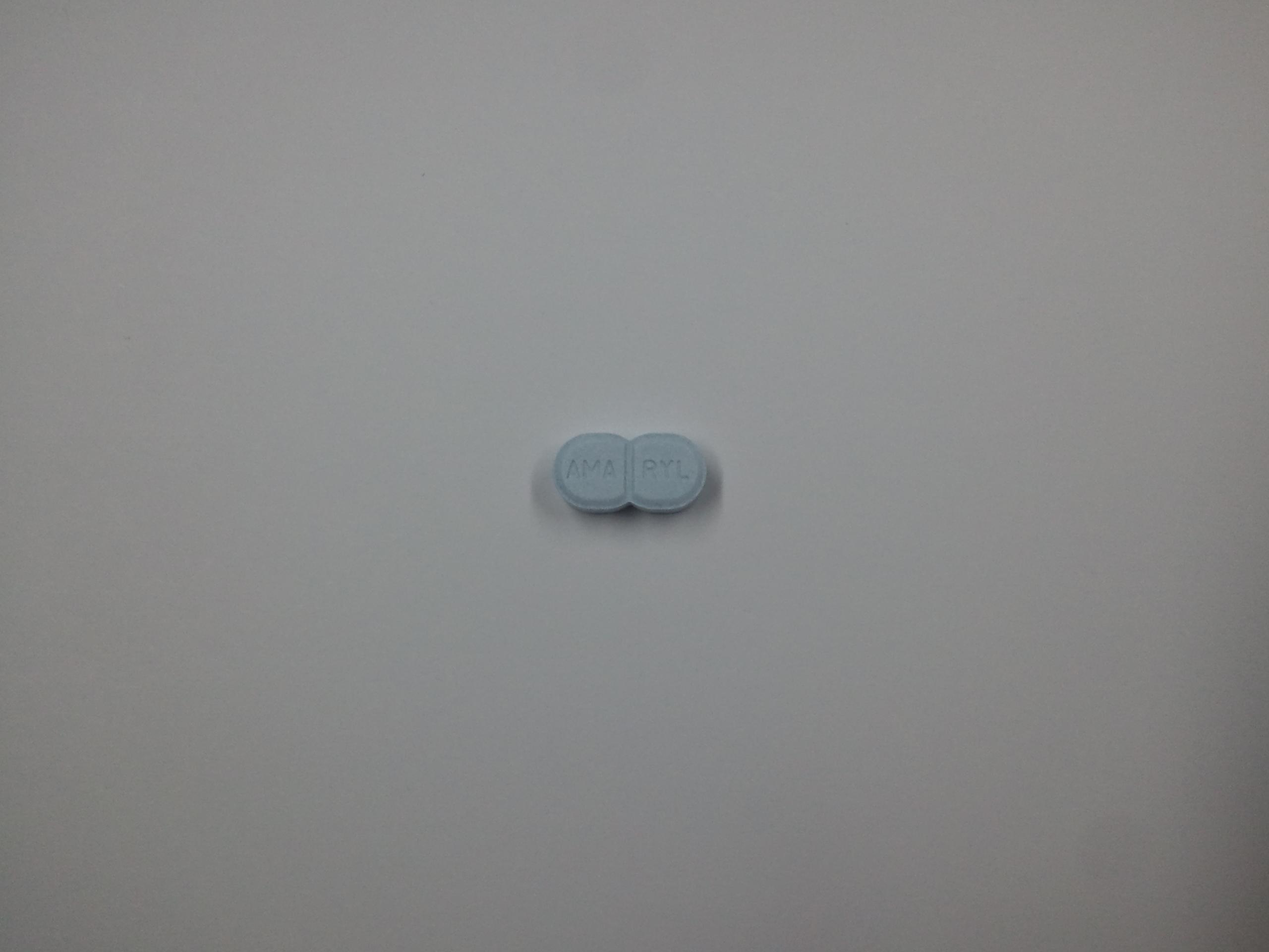Pill: (565, 405, 716, 550)
